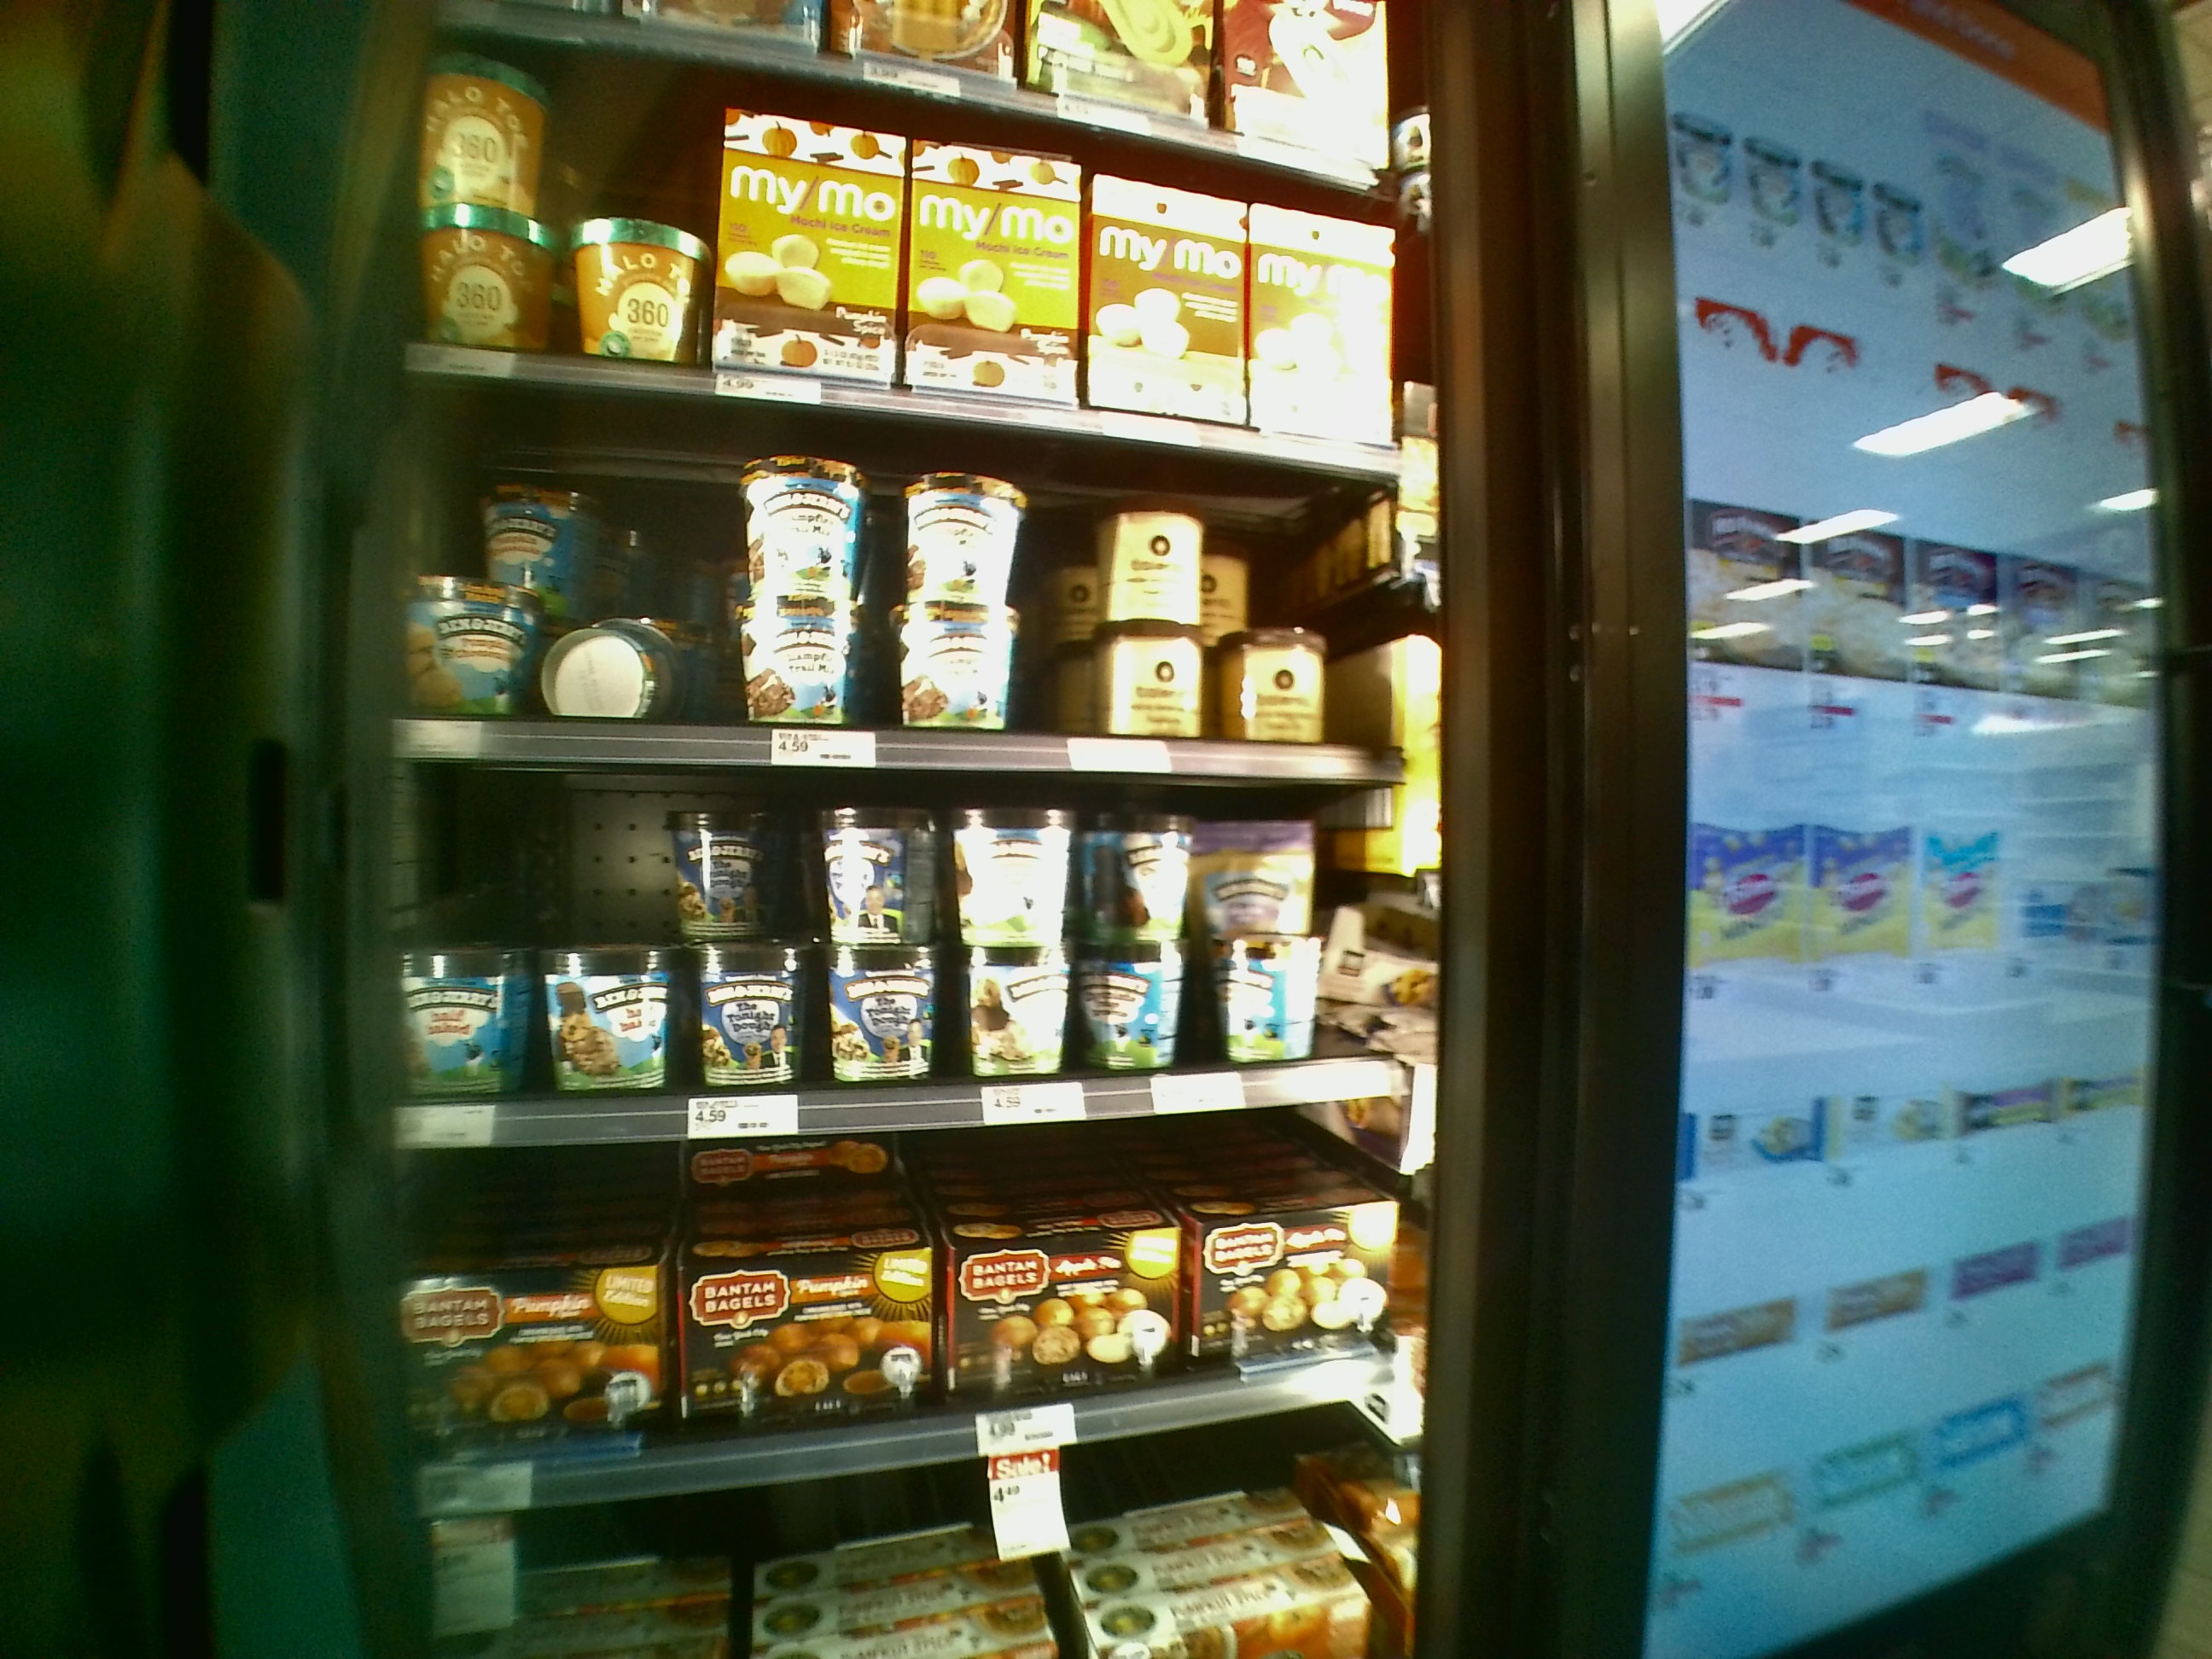shelf: (387, 375, 1432, 788), (369, 769, 1385, 1150), (369, 1154, 1432, 1511)
